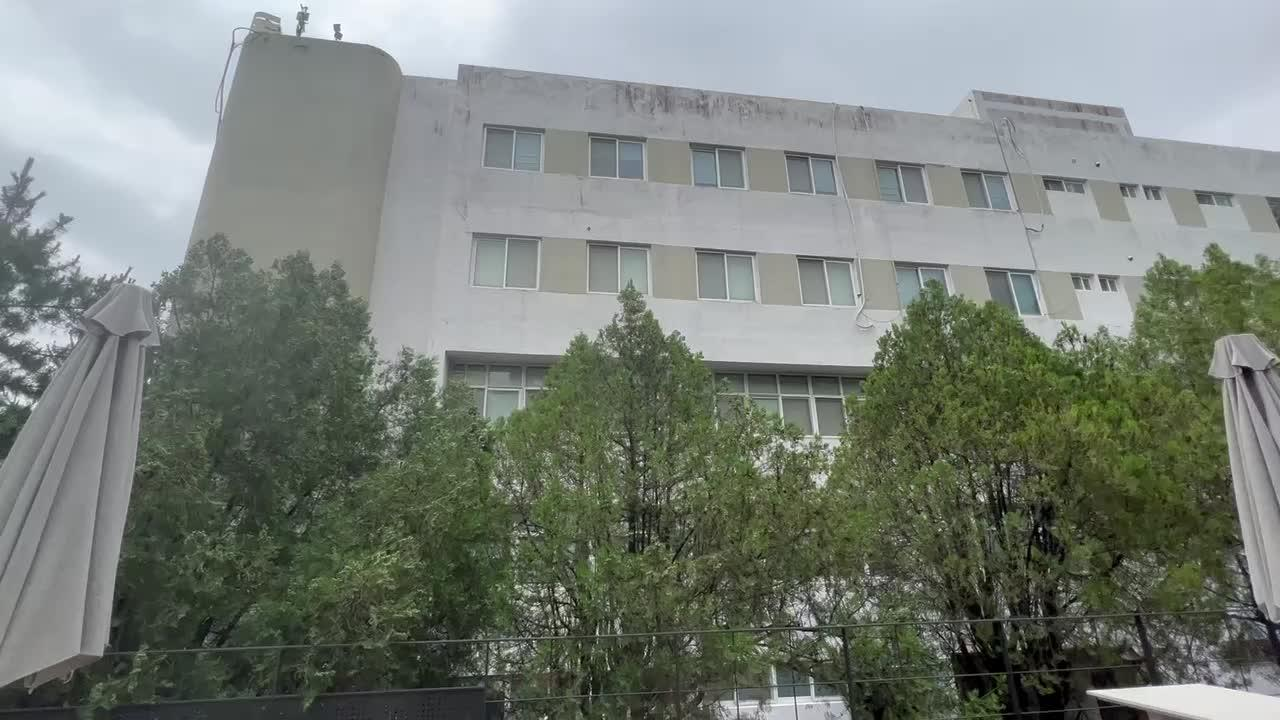building: (249, 30, 1074, 348)
